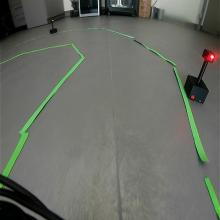red: (201, 47, 216, 64)
